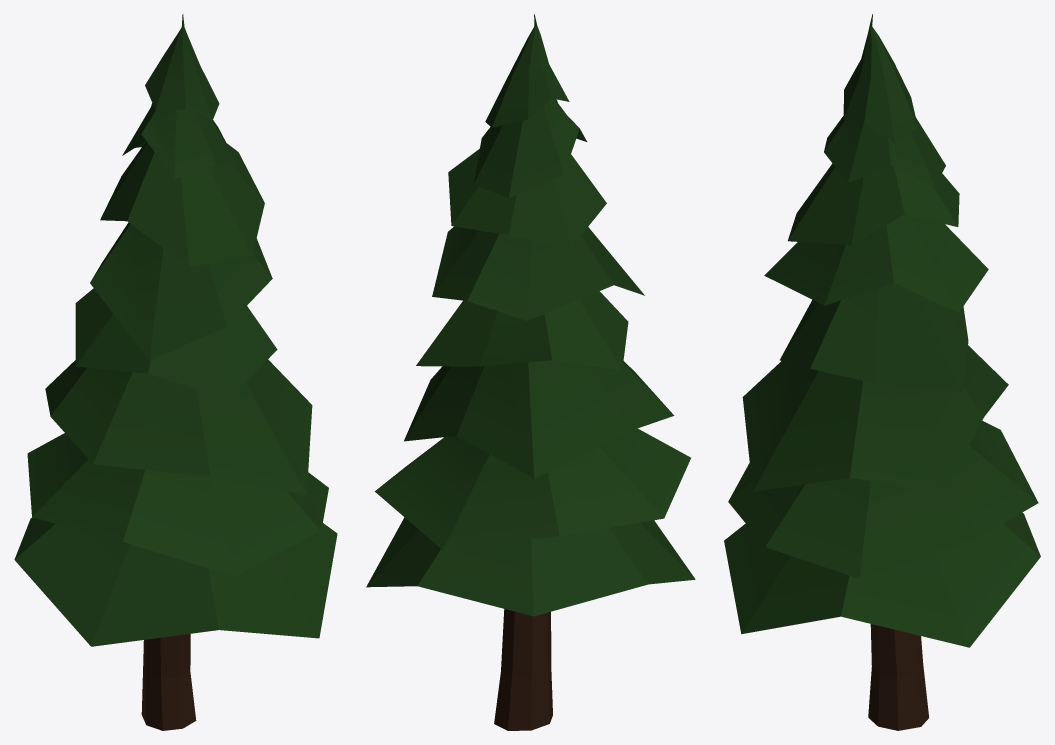
The model's file is pineTree.fbx.
3 renders of one model, left to right at view 1: azimuth 30°, elevation 25°; view 2: azimuth 150°, elevation 25°; view 3: azimuth 270°, elevation 25°, orthographic. The views are drawn at different scales.
Visible parts, largest first — view 1: Cylinder.001; view 2: Cylinder.001; view 3: Cylinder.001.
Boxes of the visible parts, x1,y1,x2,y2 form: Cylinder.001: (14, 14, 337, 730); Cylinder.001: (366, 14, 695, 730); Cylinder.001: (724, 14, 1040, 730).
Bounding box in the file's own units: 32681 × 78933 × 32170.
